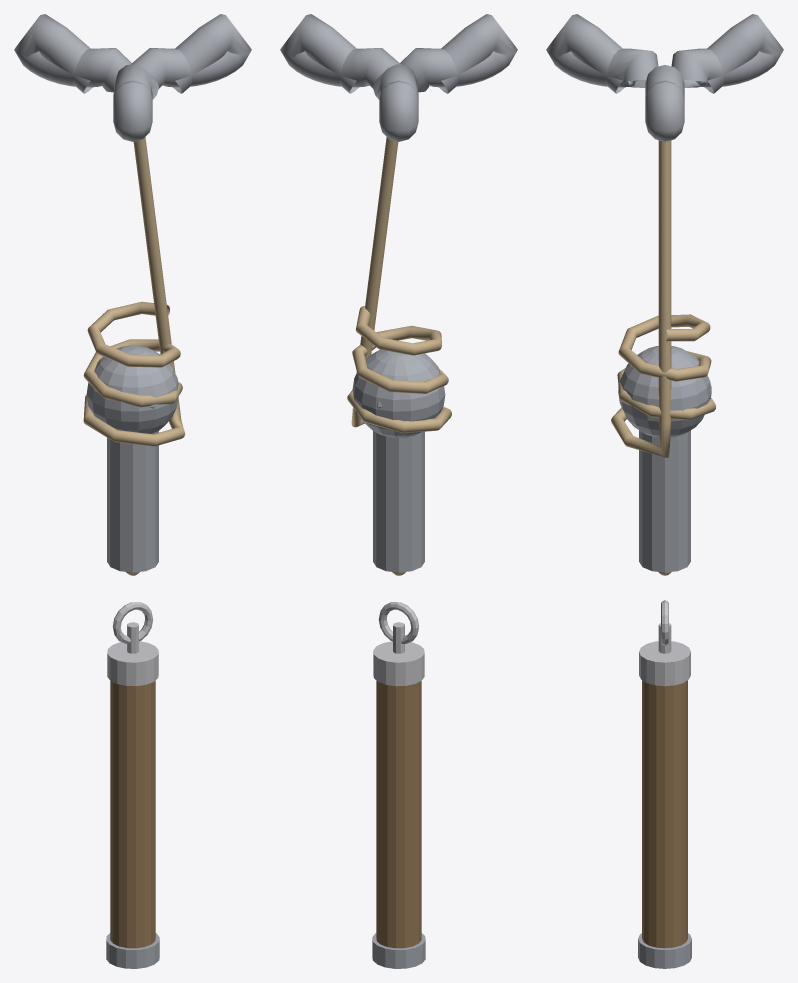
Rendered from raft_grappling_hook.glb.
3 views of the same model, side by side, from view 1: azimuth 30°, elevation 25°; view 2: azimuth 150°, elevation 25°; view 3: azimuth 270°, elevation 25° (orthographic).
Visible parts, largest first — view 1: GrapplingHook, Hook_Rope, Hook_Claw_1, Hook_Claw_0, Hook_Claw_2; view 2: GrapplingHook, Hook_Rope, Hook_Claw_2, Hook_Claw_0, Hook_Claw_1; view 3: GrapplingHook, Hook_Rope, Hook_Claw_1, Hook_Claw_2, Hook_Claw_0.
Part boxes in pixels (<box>): GrapplingHook: <box>86,345,178,968</box>; Hook_Rope: <box>83,137,185,446</box>; Hook_Claw_1: <box>14,14,131,93</box>; Hook_Claw_0: <box>131,14,251,93</box>; Hook_Claw_2: <box>113,64,158,141</box>; GrapplingHook: <box>352,349,445,968</box>; Hook_Rope: <box>347,137,451,433</box>; Hook_Claw_2: <box>400,14,517,93</box>; Hook_Claw_0: <box>280,14,400,93</box>; Hook_Claw_1: <box>373,64,418,141</box>; GrapplingHook: <box>618,346,711,968</box>; Hook_Rope: <box>611,140,716,457</box>; Hook_Claw_1: <box>671,14,783,93</box>; Hook_Claw_2: <box>546,14,658,93</box>; Hook_Claw_0: <box>645,65,684,141</box>.
Size of the model in its own units: 0.2031 by 0.9758 by 0.2287.
